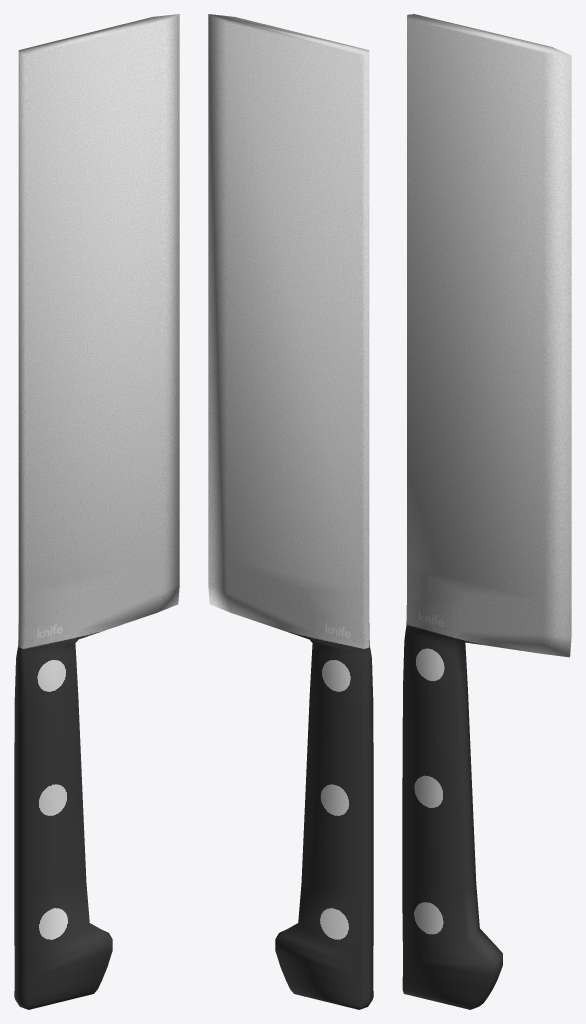
Rendered from knife.glb.
3 renders of one model, left to right at view 1: azimuth 30°, elevation 25°; view 2: azimuth 150°, elevation 25°; view 3: azimuth 330°, elevation 25°, orthographic. The views are drawn at different scales.
Visible parts, largest first — view 1: knife2_0; view 2: knife2_0; view 3: knife2_0.
Part boxes in pixels (box(x1,y1,x2,y2)): knife2_0: box(14, 14, 179, 1009); knife2_0: box(208, 14, 373, 1009); knife2_0: box(402, 14, 571, 1009).
Size of the model in its own units: 0.5281 by 2.99 by 0.0802.
Materials: 1 (1 with a texture image).
